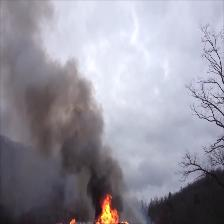fire: (99, 196, 120, 224)
smoke: (26, 73, 91, 157), (92, 161, 119, 194)
